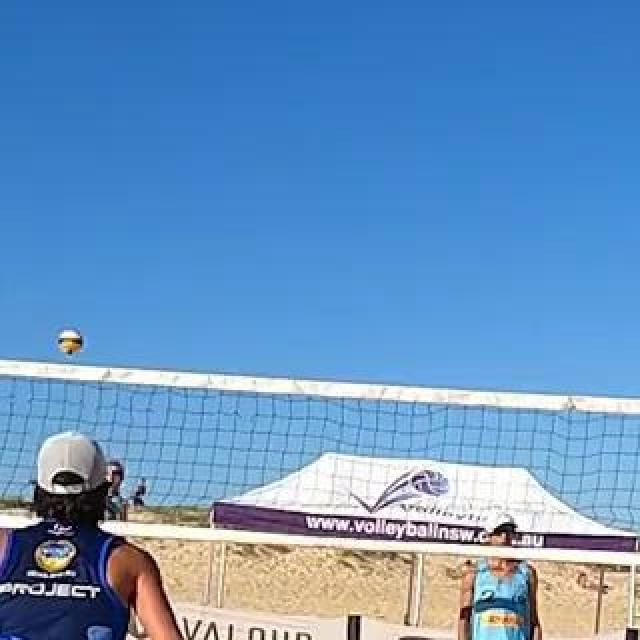volleyball: (58, 332, 84, 356)
